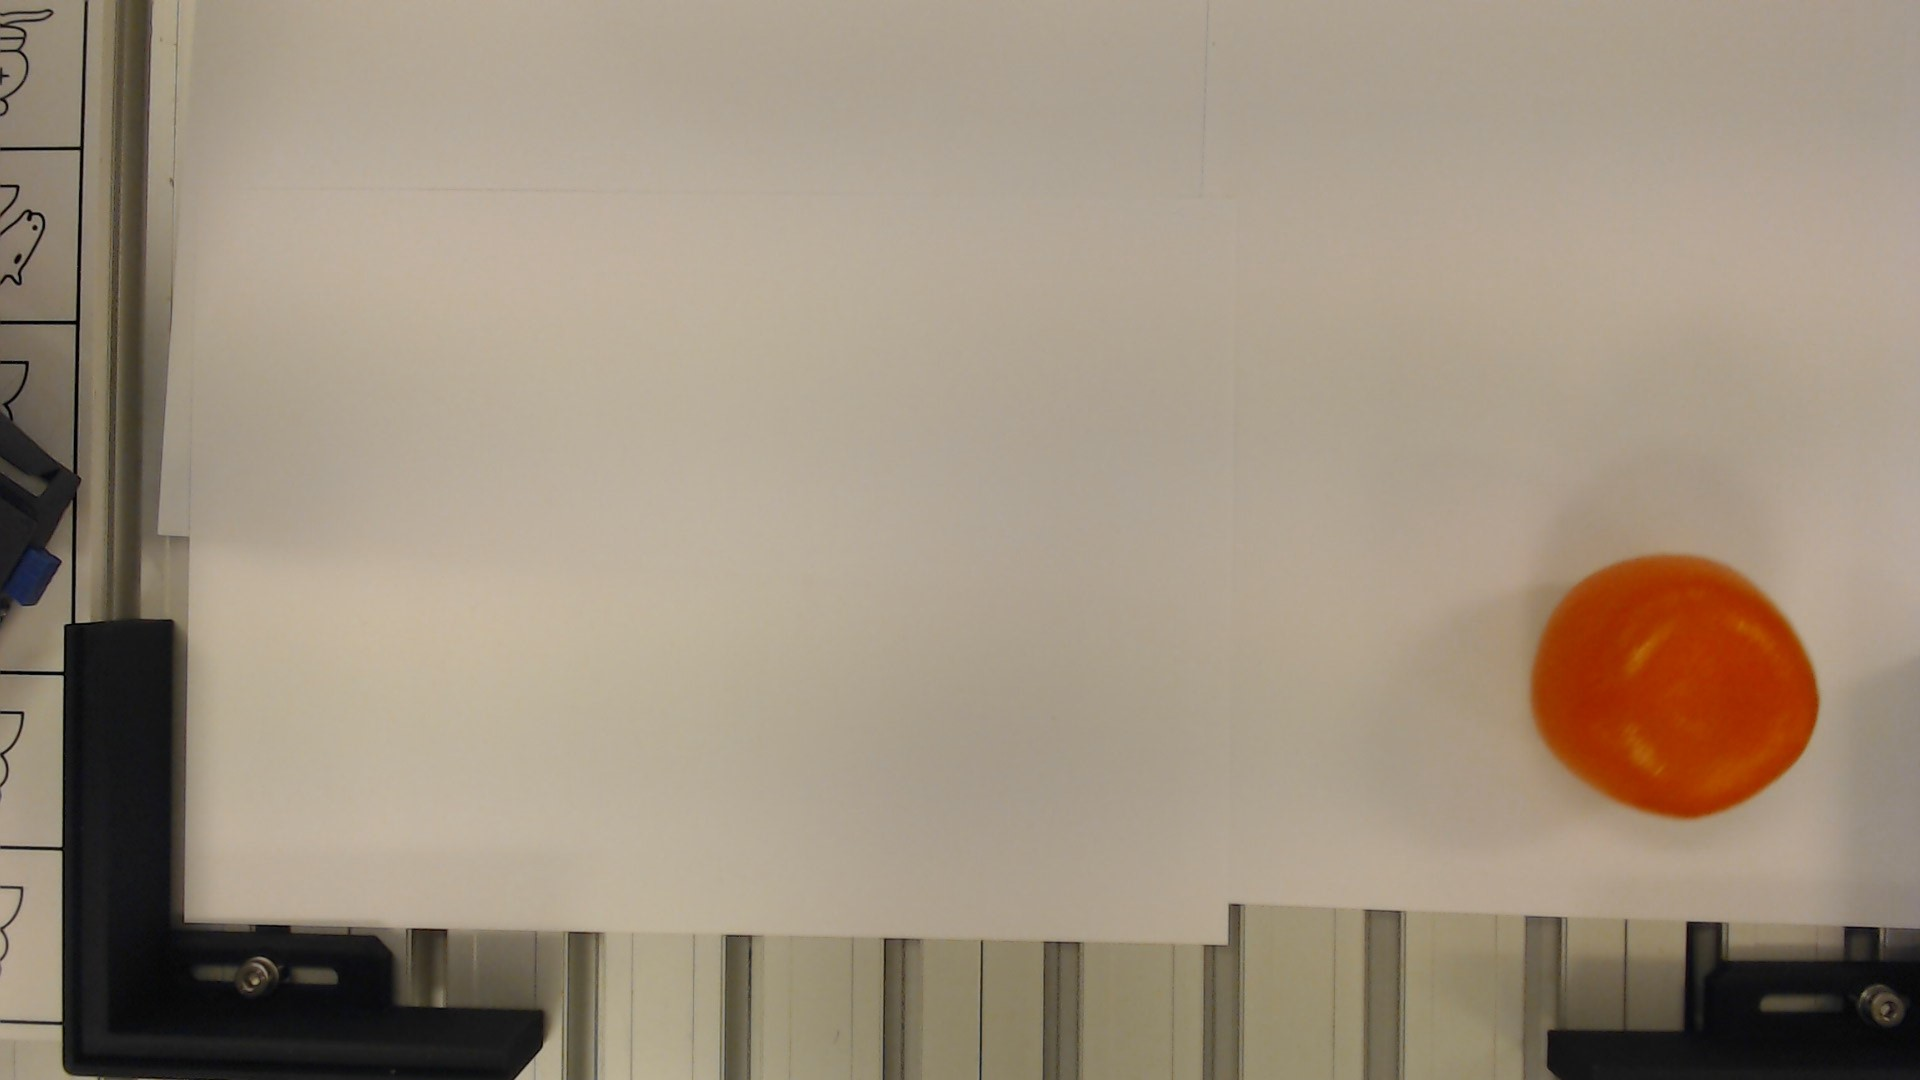Mandarin: (1524, 542, 1825, 828)
